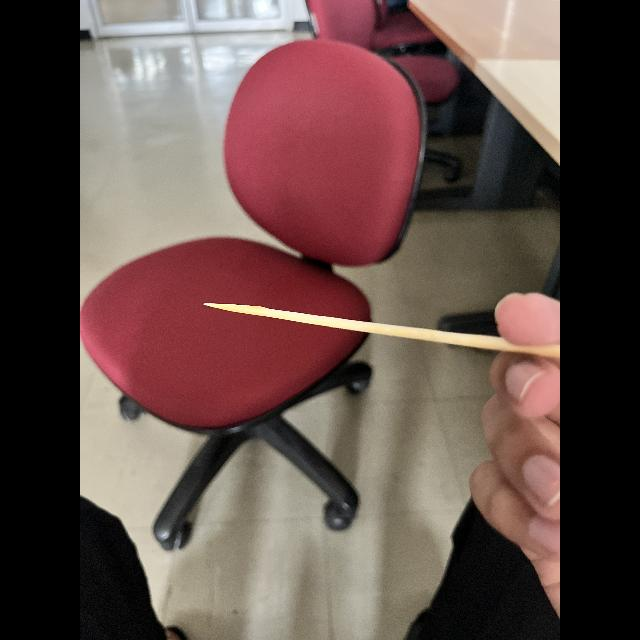stick: (198, 300, 554, 358)
